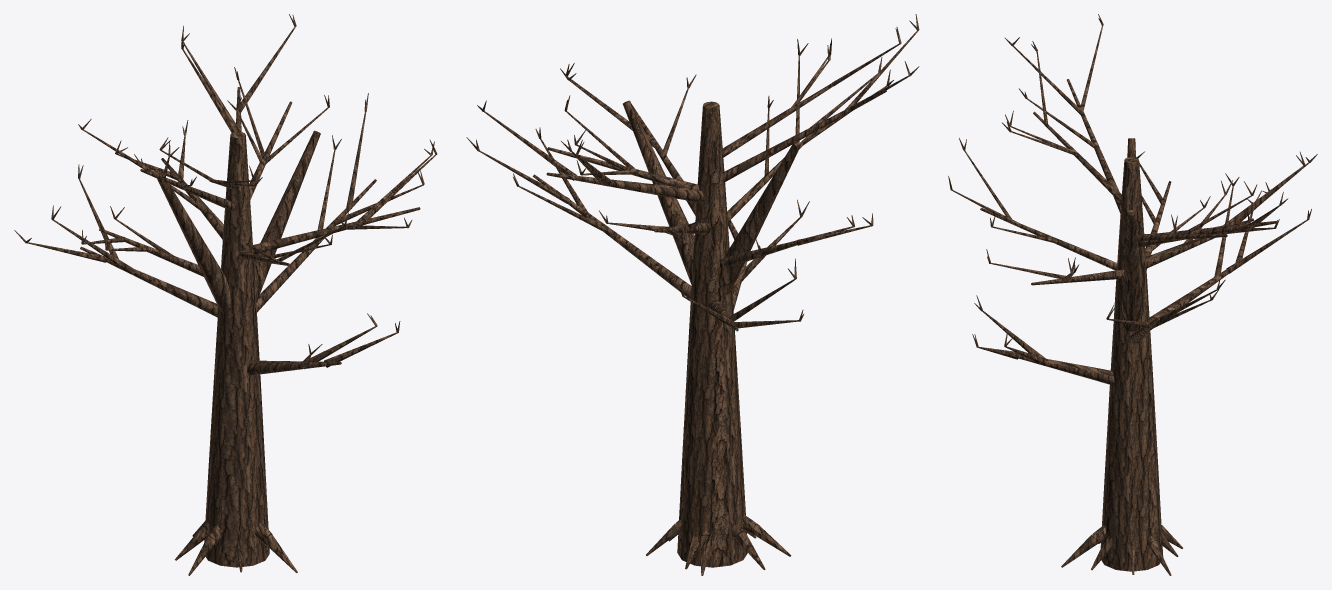
The model's file is lightning-split-v01.glb.
3 renders of one model, left to right at view 1: azimuth 30°, elevation 25°; view 2: azimuth 150°, elevation 25°; view 3: azimuth 270°, elevation 25°, orthographic. The views are drawn at different scales.
Parts seen in each view (by area): view 1: dead-tree-split; view 2: dead-tree-split; view 3: dead-tree-split.
Part boxes in pixels (box(x1,y1,x2,y2)): dead-tree-split: box(14, 14, 437, 575); dead-tree-split: box(466, 14, 919, 575); dead-tree-split: box(948, 14, 1317, 575).
Size of the model in its own units: 7.59 by 9.9 by 7.14.
1 material, 1 textured.
